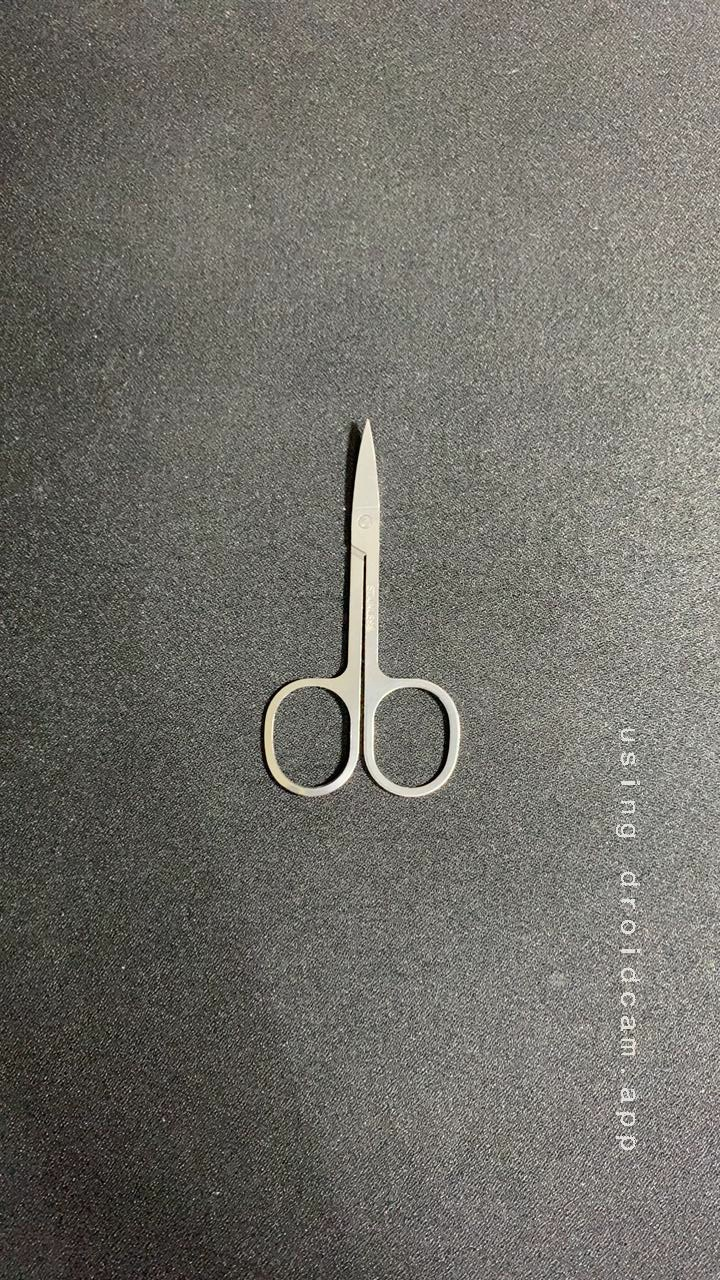scissor: (229, 414, 488, 808)
